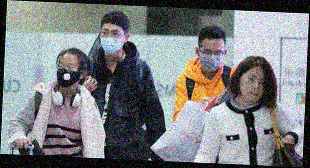with_mask: (99, 25, 124, 56), (198, 46, 225, 73), (55, 59, 80, 88)
without_mask: (237, 70, 267, 105)
